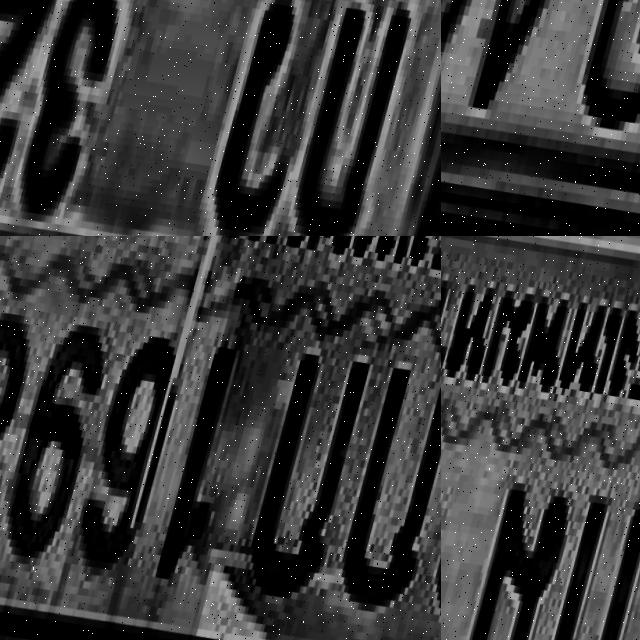license-plate: (0, 236, 441, 640), (0, 0, 441, 236), (441, 236, 640, 640), (441, 0, 640, 236)
